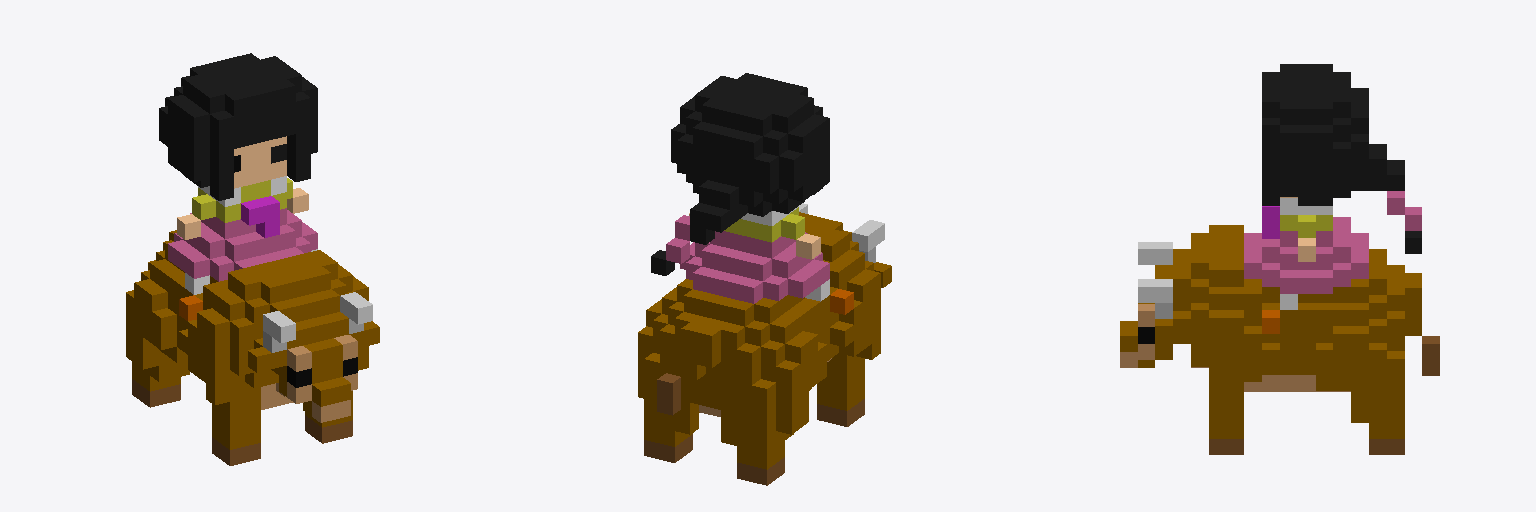
The picture shows the model from 3 angles: view 1: azimuth 30°, elevation 25°; view 2: azimuth 150°, elevation 25°; view 3: azimuth 270°, elevation 25°; orthographic projection.
Size of the model in its own units: 10 by 21 by 18.
1 materials, 1 textured.